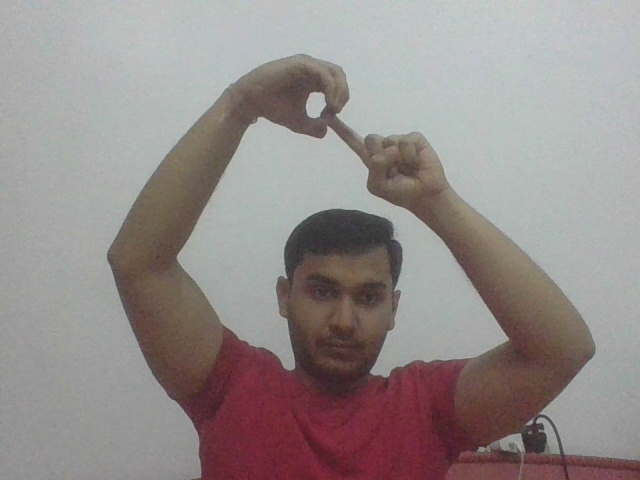Q: (273, 52, 409, 191)
